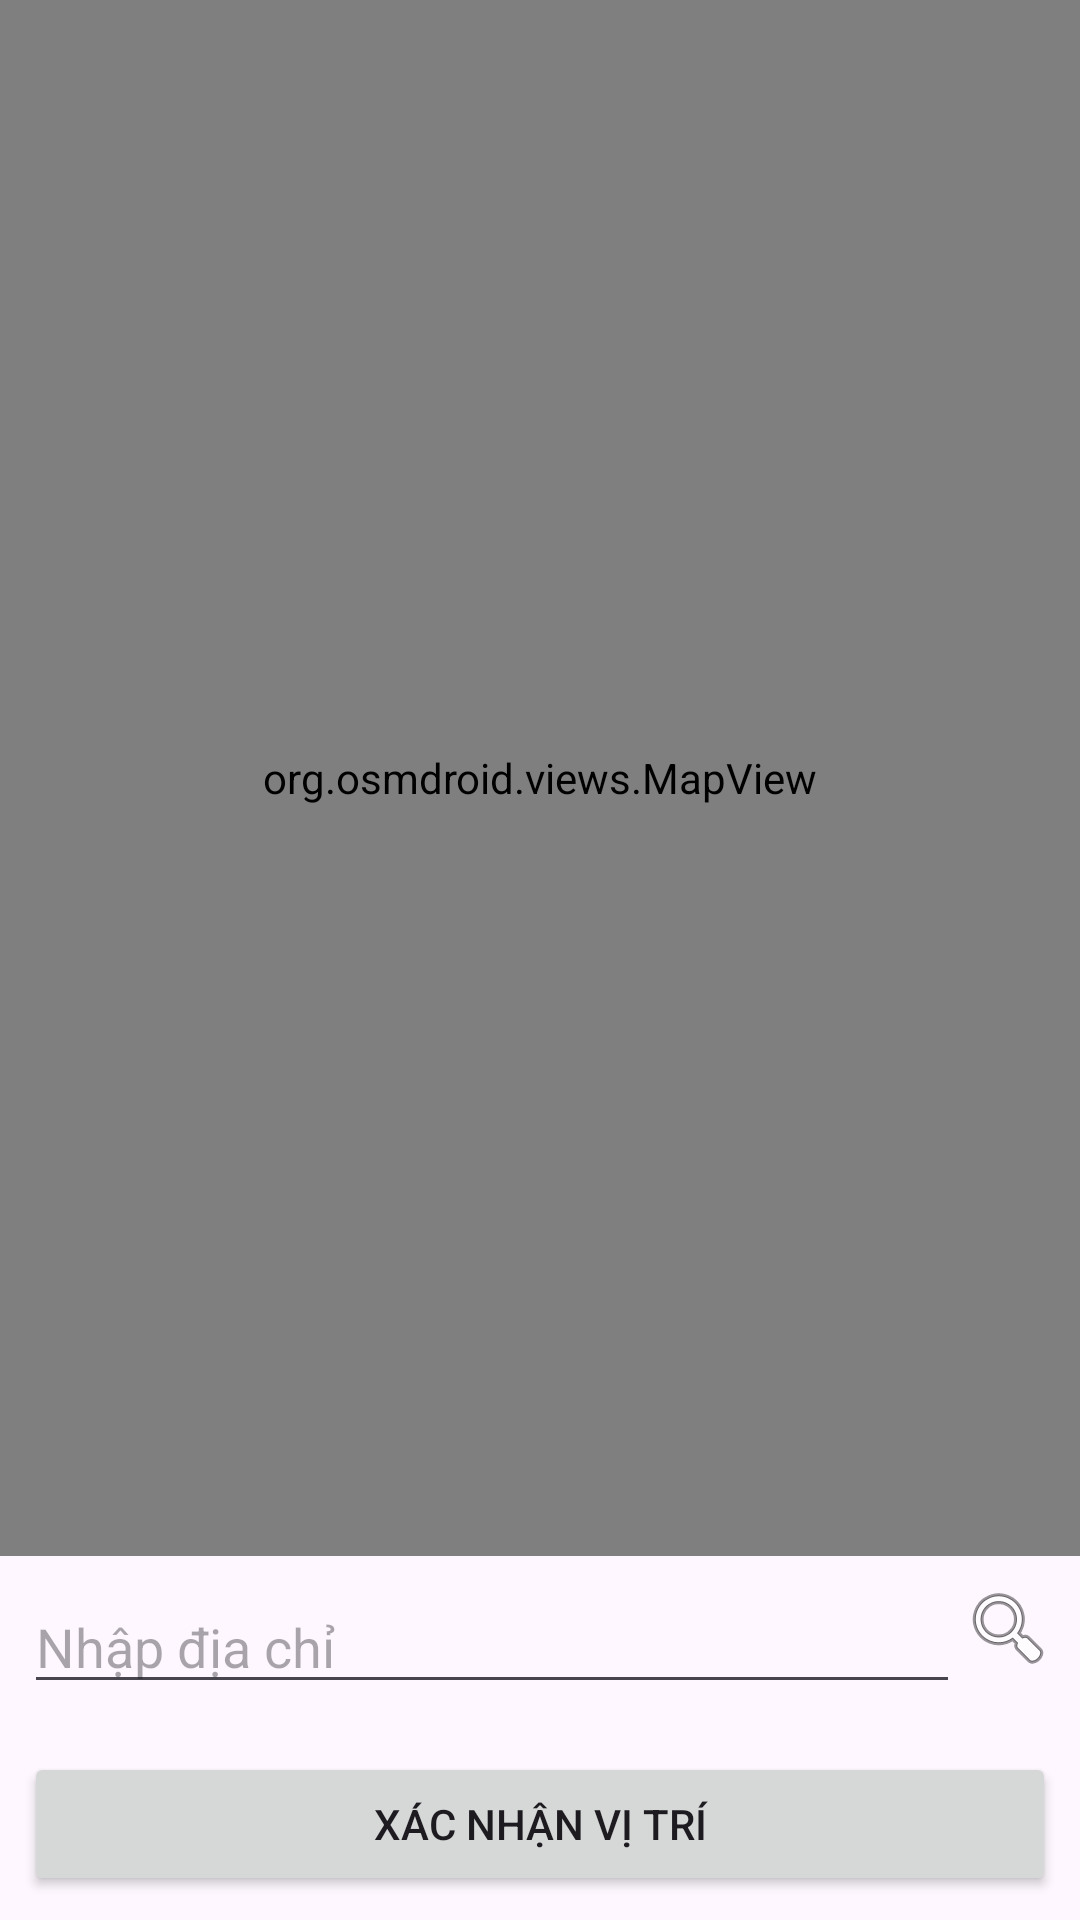

Icon bounding boxes for this 1080x1920 phone screenshot, format (x1, y1, x2, y2):
Search: (972, 1593, 1044, 1664)
